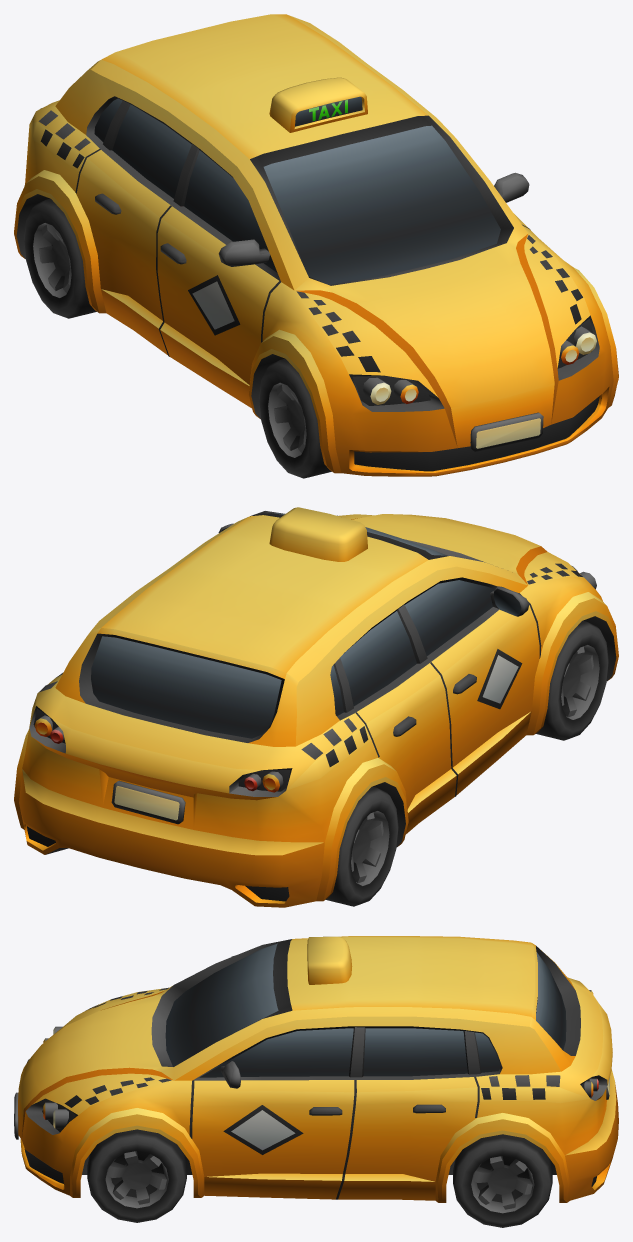
Rendered from Car_7F.fbx.
3 views of the same model, one above another, from view 1: azimuth 30°, elevation 25°; view 2: azimuth 150°, elevation 25°; view 3: azimuth 270°, elevation 25° (orthographic). The views are drawn at different scales.
Parts seen in each view (by area): view 1: Car_7F, Wheel_7F_R.R, Wheel_7F_F.R, Livery_7F; view 2: Car_7F, Wheel_7F_R.R, Wheel_7F_F.R, Livery_7F; view 3: Car_7F, Wheel_7F_R.L, Wheel_7F_F.L, Livery_7F.
Part boxes in pixels (x1,y1,x2,y2): Car_7F: [14, 14, 618, 476]; Wheel_7F_R.R: [24, 198, 96, 318]; Wheel_7F_F.R: [259, 358, 331, 478]; Livery_7F: [188, 99, 347, 335]; Car_7F: [14, 507, 618, 907]; Wheel_7F_R.R: [326, 786, 398, 906]; Wheel_7F_F.R: [536, 620, 608, 740]; Livery_7F: [477, 649, 522, 709]; Car_7F: [14, 936, 618, 1202]; Wheel_7F_R.L: [453, 1134, 552, 1227]; Wheel_7F_F.L: [87, 1129, 186, 1222]; Livery_7F: [223, 1105, 303, 1154].
Size of the model in its own units: 260 by 204 by 513.
